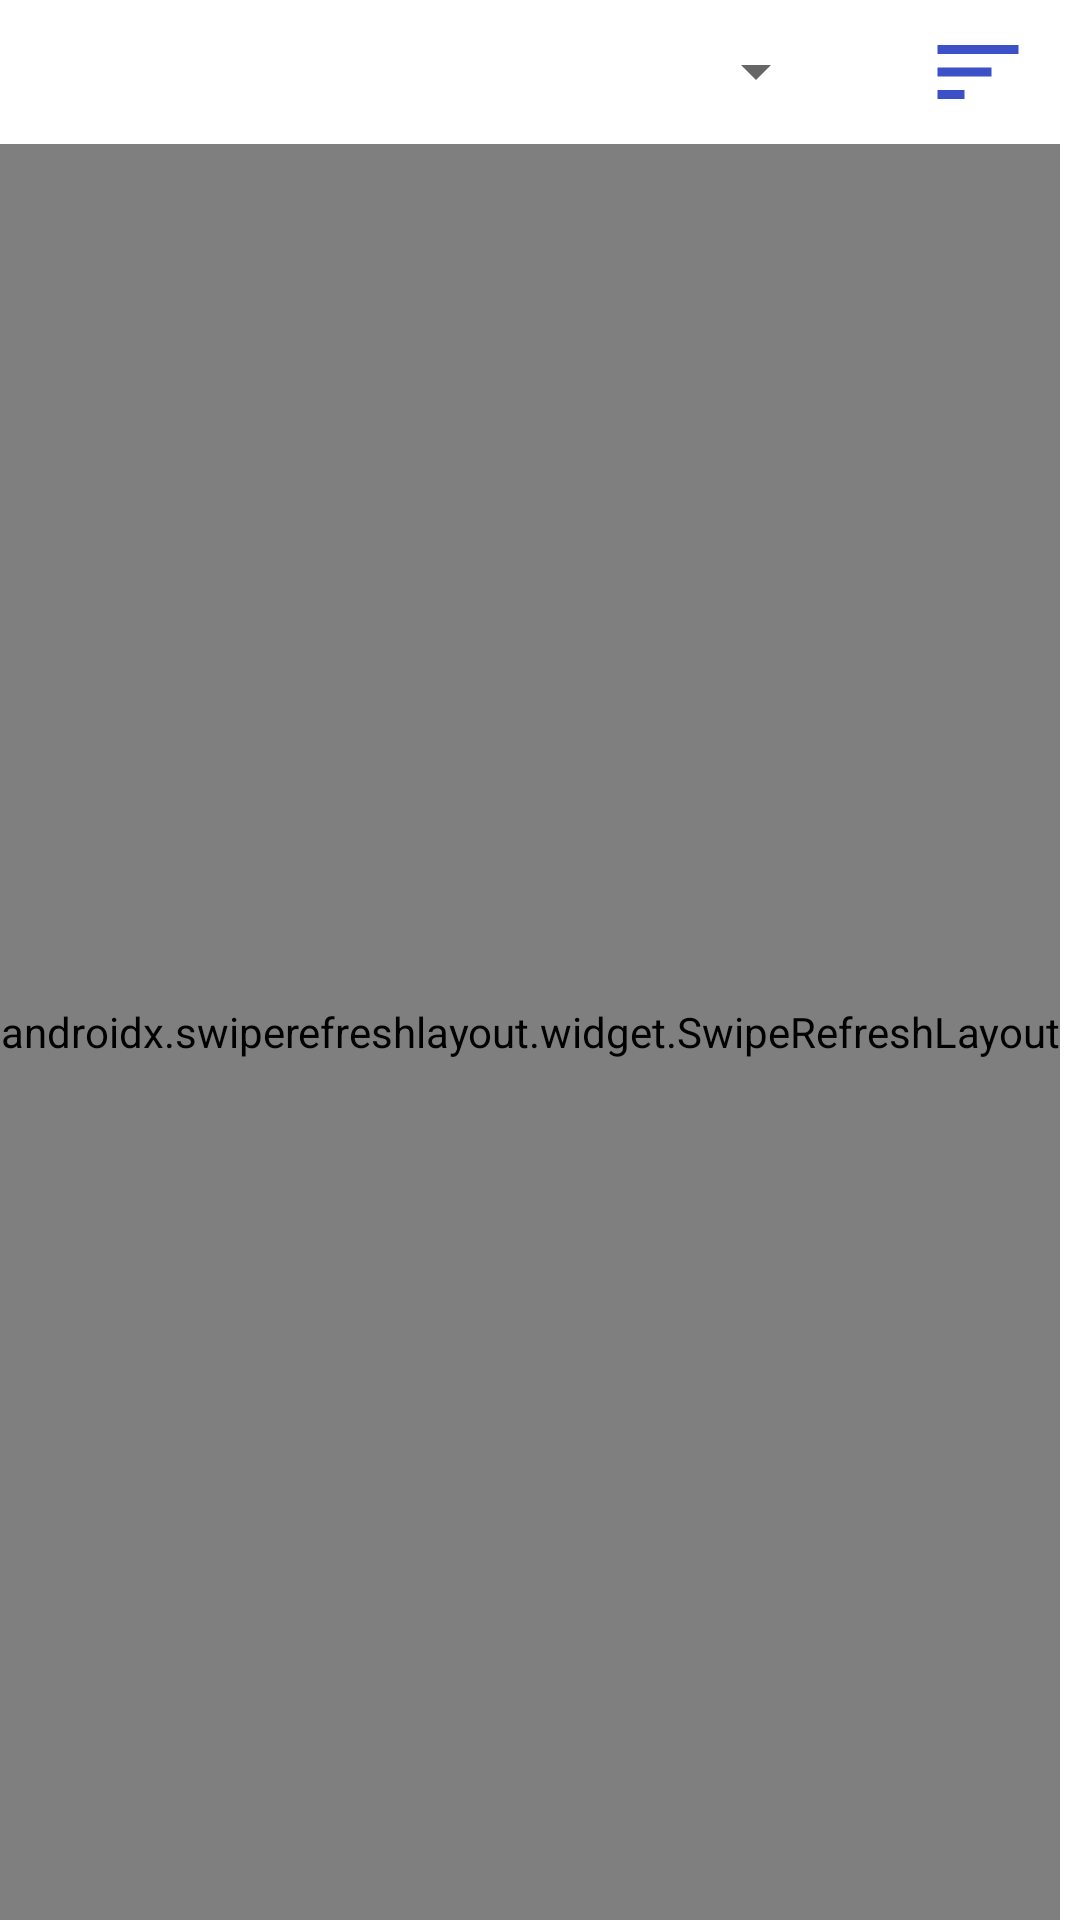

Where to tap for icons on this 1080px×1920px app screen, as (x=x, y=y):
sort: (x=978, y=72)
